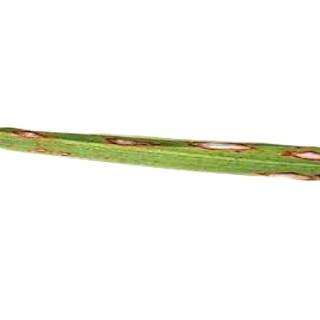Blast: (184, 134, 254, 158), (254, 162, 316, 184), (2, 124, 57, 146), (98, 132, 154, 152), (280, 144, 320, 164)
